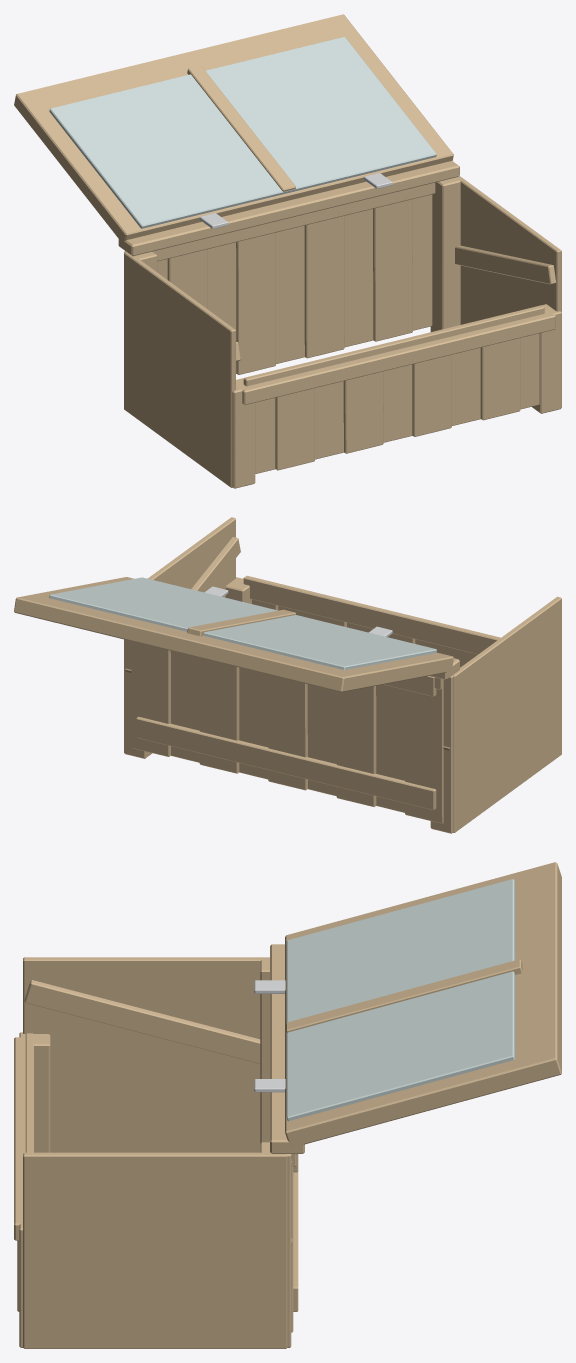
The model's file is garden-centre-and-florist-cold-frame-8003737a__17794.glb.
The picture shows the model from 3 angles, top to bottom: view 1: azimuth 30°, elevation 25°; view 2: azimuth 150°, elevation 25°; view 3: azimuth 270°, elevation 25°; orthographic projection. The views are drawn at different scales.
Parts seen in each view (by area): view 1: cold-frame, cold-frame-lid (×2); view 2: cold-frame, cold-frame-lid (×2); view 3: cold-frame, cold-frame-lid (×2).
Part boxes in pixels (x1,y1,x2,y2): cold-frame: (118, 161, 561, 488); cold-frame-lid (×2): (14, 14, 453, 244); cold-frame: (124, 517, 561, 833); cold-frame-lid (×2): (14, 577, 453, 692); cold-frame: (14, 944, 304, 1348); cold-frame-lid (×2): (285, 862, 561, 1147).
Size of the model in its own units: 1.21 by 0.8228 by 1.41.
